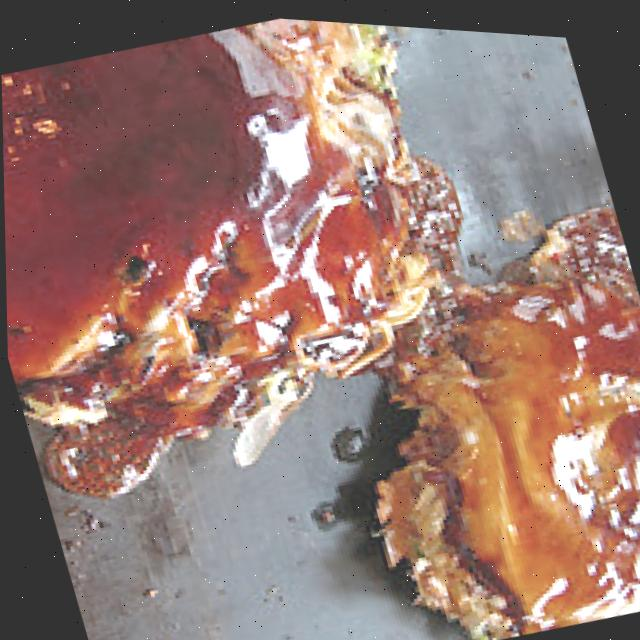蛋糕甜品: (0, 0, 495, 488)
